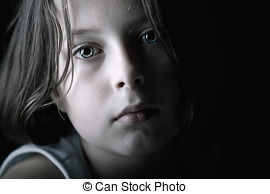face: (20, 1, 205, 167)
